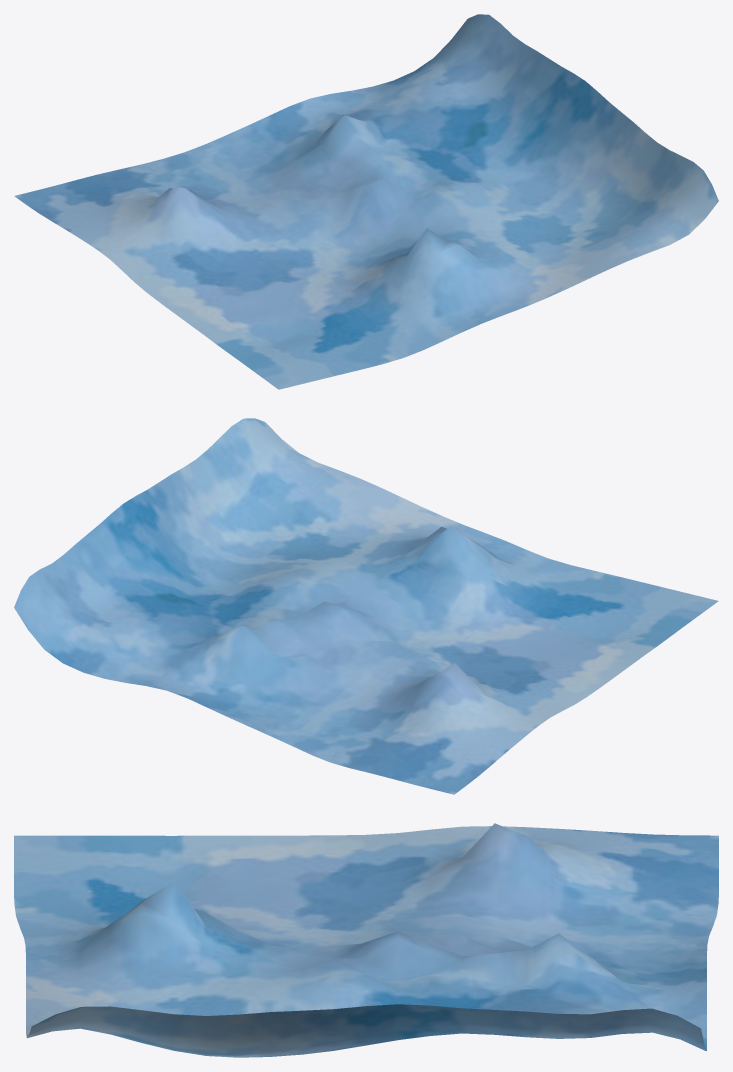
The model's file is caveterrain1.fbx.
3 renders of one model, top to bottom at view 1: azimuth 30°, elevation 25°; view 2: azimuth 150°, elevation 25°; view 3: azimuth 270°, elevation 25°, orthographic. The views are drawn at different scales.
Parts seen in each view (by area): view 1: Plane.001; view 2: Plane.001; view 3: Plane.001.
Boxes of the visible parts, bbox=[...] form: Plane.001: bbox=[14, 14, 718, 389]; Plane.001: bbox=[14, 418, 718, 794]; Plane.001: bbox=[14, 823, 718, 1057].
Bounding box in the file's own units: 3330 × 720 × 3387.
